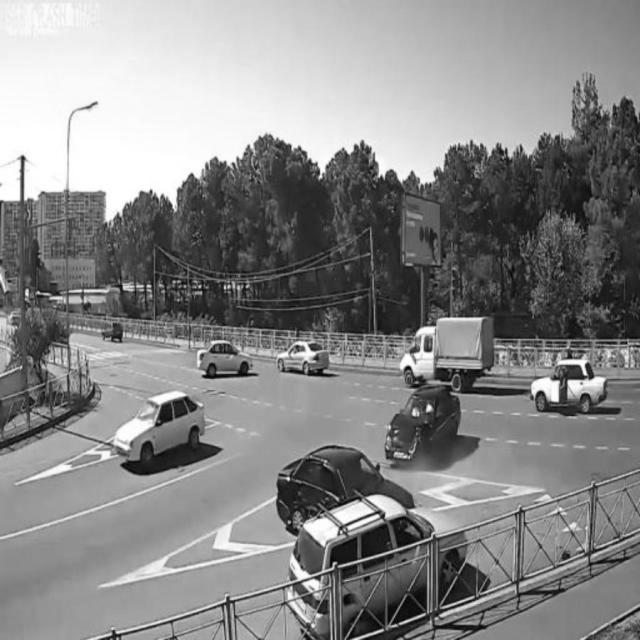vehicle: (287, 500, 471, 637), (277, 446, 414, 519), (112, 391, 204, 469), (399, 317, 495, 388), (385, 384, 462, 465), (532, 360, 609, 415), (194, 340, 255, 377), (275, 336, 329, 376), (101, 315, 123, 345)
